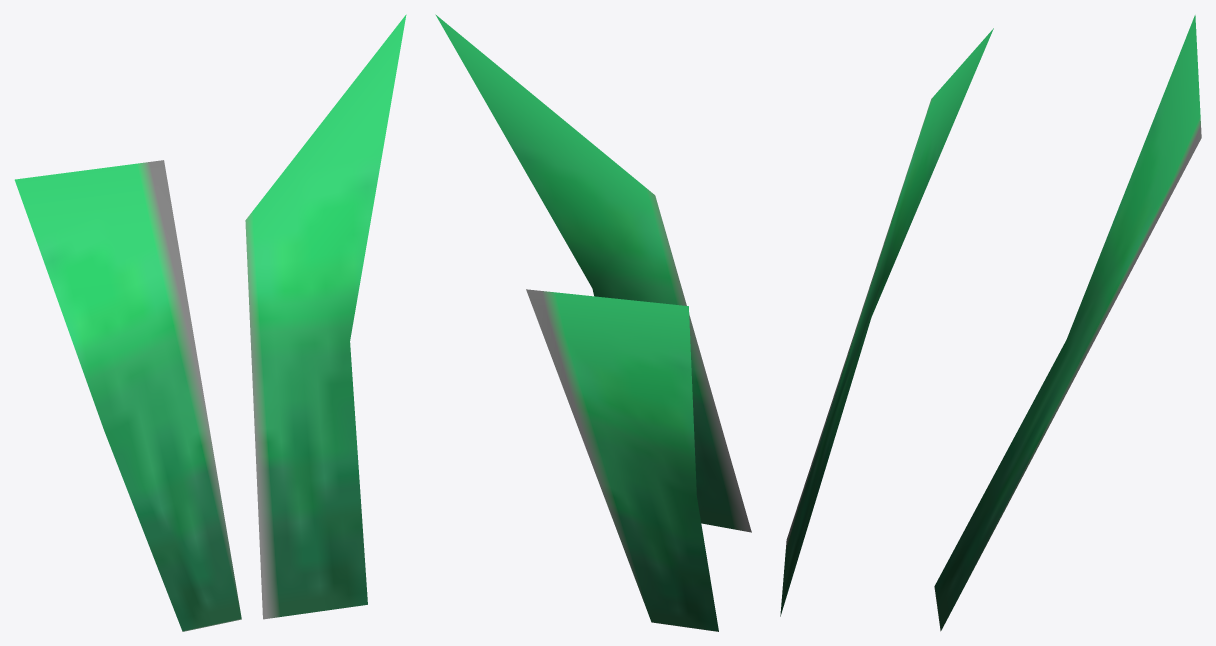
File: fg_grassC.dae
The picture shows the model from 3 angles, left to right: view 1: azimuth 30°, elevation 25°; view 2: azimuth 150°, elevation 25°; view 3: azimuth 270°, elevation 25°; orthographic projection. The views are drawn at different scales.
Parts seen in each view (by area): view 1: fg_grassC; view 2: fg_grassC; view 3: fg_grassC.
Part boxes in pixels (<box>): fg_grassC: <box>14,14,406,631</box>; fg_grassC: <box>435,14,751,631</box>; fg_grassC: <box>780,15,1201,631</box>.
Size of the model in its own units: 14.53 by 23.97 by 12.64.
1 material, 1 textured.
